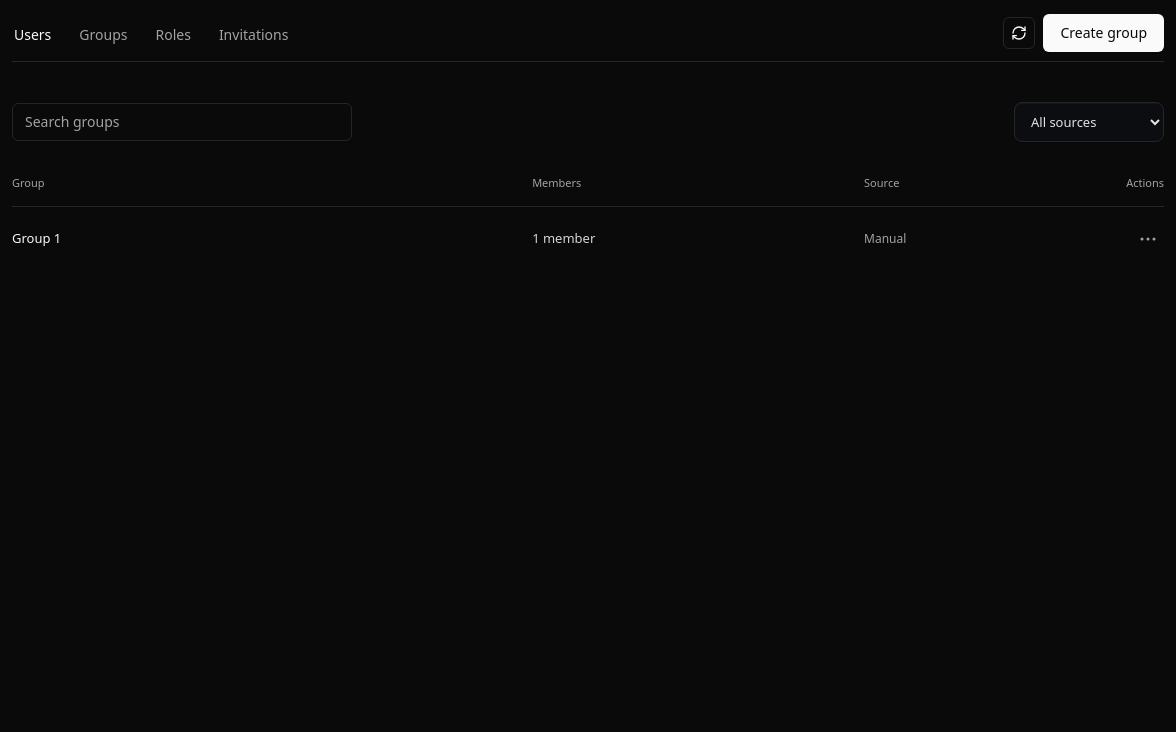
Test: People groups authoritative workflow › keeps a failed member read retryable and does not claim an empty group or offer an add based on missing data
Step 1. Click the button "Group 1" → (37, 239), box left=12, top=228, right=61, bottom=249
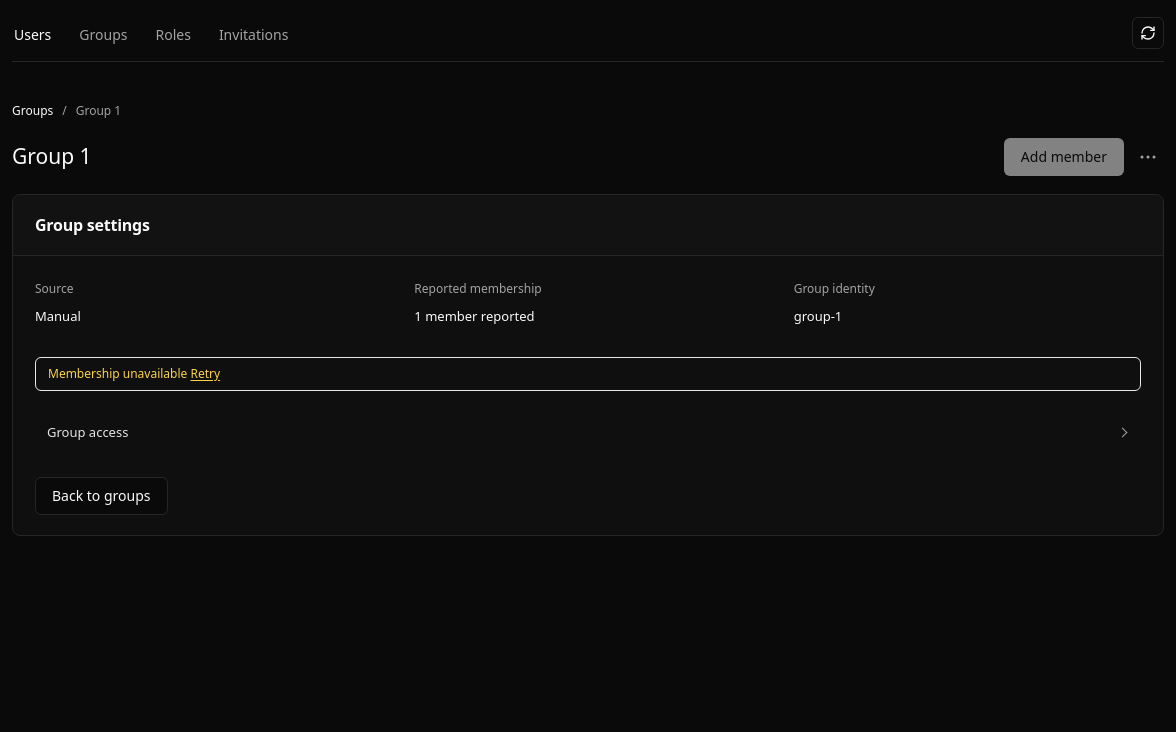
Expected: the text "Membership unavailable" is shown, left=48, top=365, right=187, bottom=382
Expected: the button "Add member" is disabled, left=1004, top=138, right=1124, bottom=176
Step 2. Click the button "Retry" → (205, 374), box left=190, top=366, right=220, bottom=382
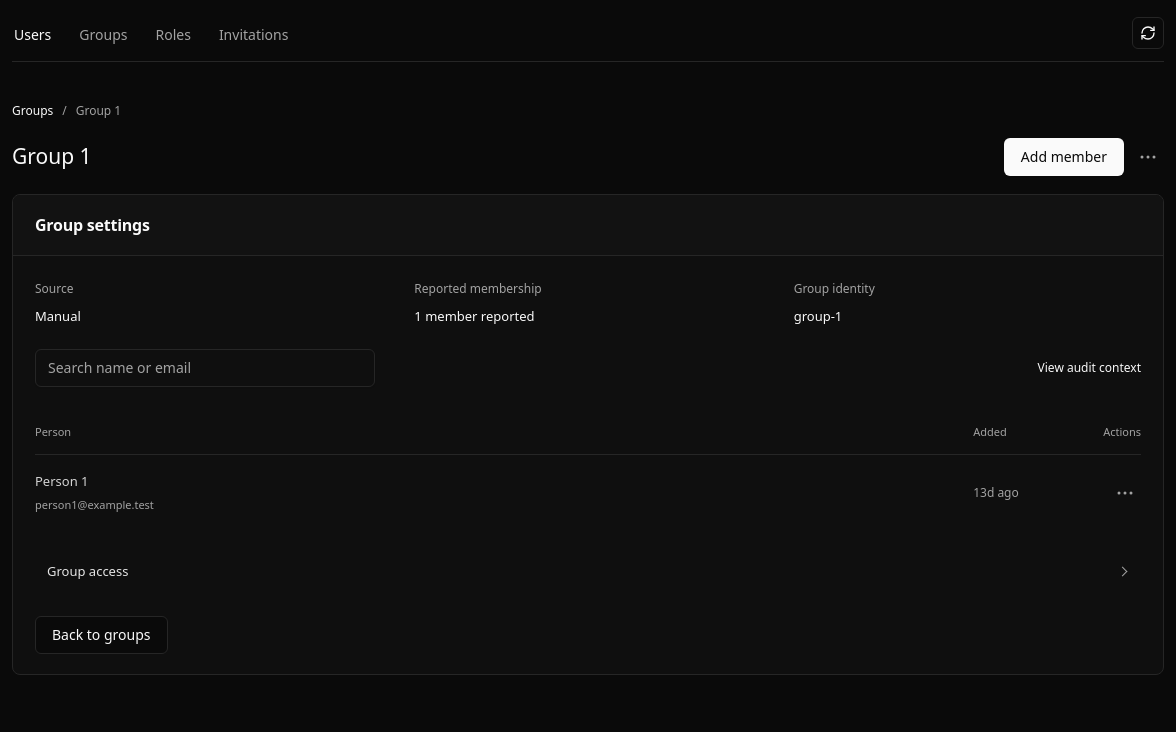
Expected: the table named "Group members" is shown, left=35, top=409, right=1141, bottom=530
Expected: the button "Add member" is enabled, left=1004, top=138, right=1124, bottom=176
